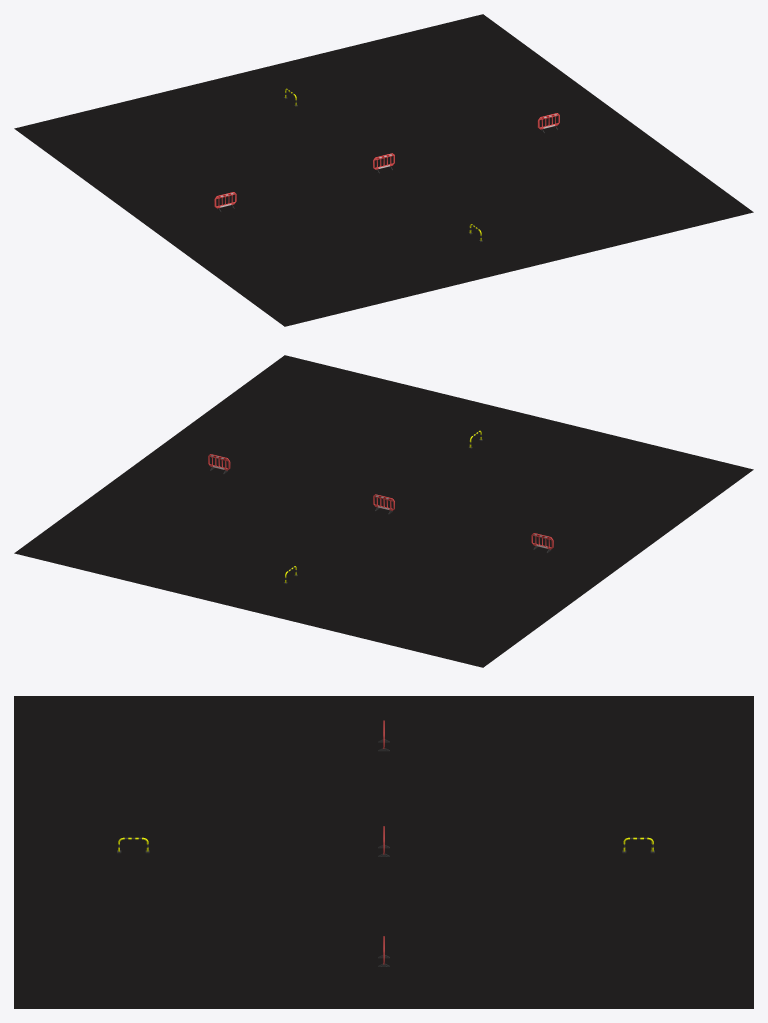
File: Tile 9_Combined_3.fbx
3 renders of one model, top to bottom at view 1: azimuth 30°, elevation 25°; view 2: azimuth 150°, elevation 25°; view 3: azimuth 270°, elevation 25°, orthographic. The views are drawn at different scales.
Parts seen in each view (by area): view 1: MeshBaker_mesh_mesh; view 2: MeshBaker_mesh_mesh; view 3: MeshBaker_mesh_mesh.
Part boxes in pixels (x1,y1,x2,y2): MeshBaker_mesh_mesh: (14,14,753,326); MeshBaker_mesh_mesh: (14,355,753,667); MeshBaker_mesh_mesh: (14,696,753,1008).
Size of the model in its own units: 3000 by 92.66 by 3000.
